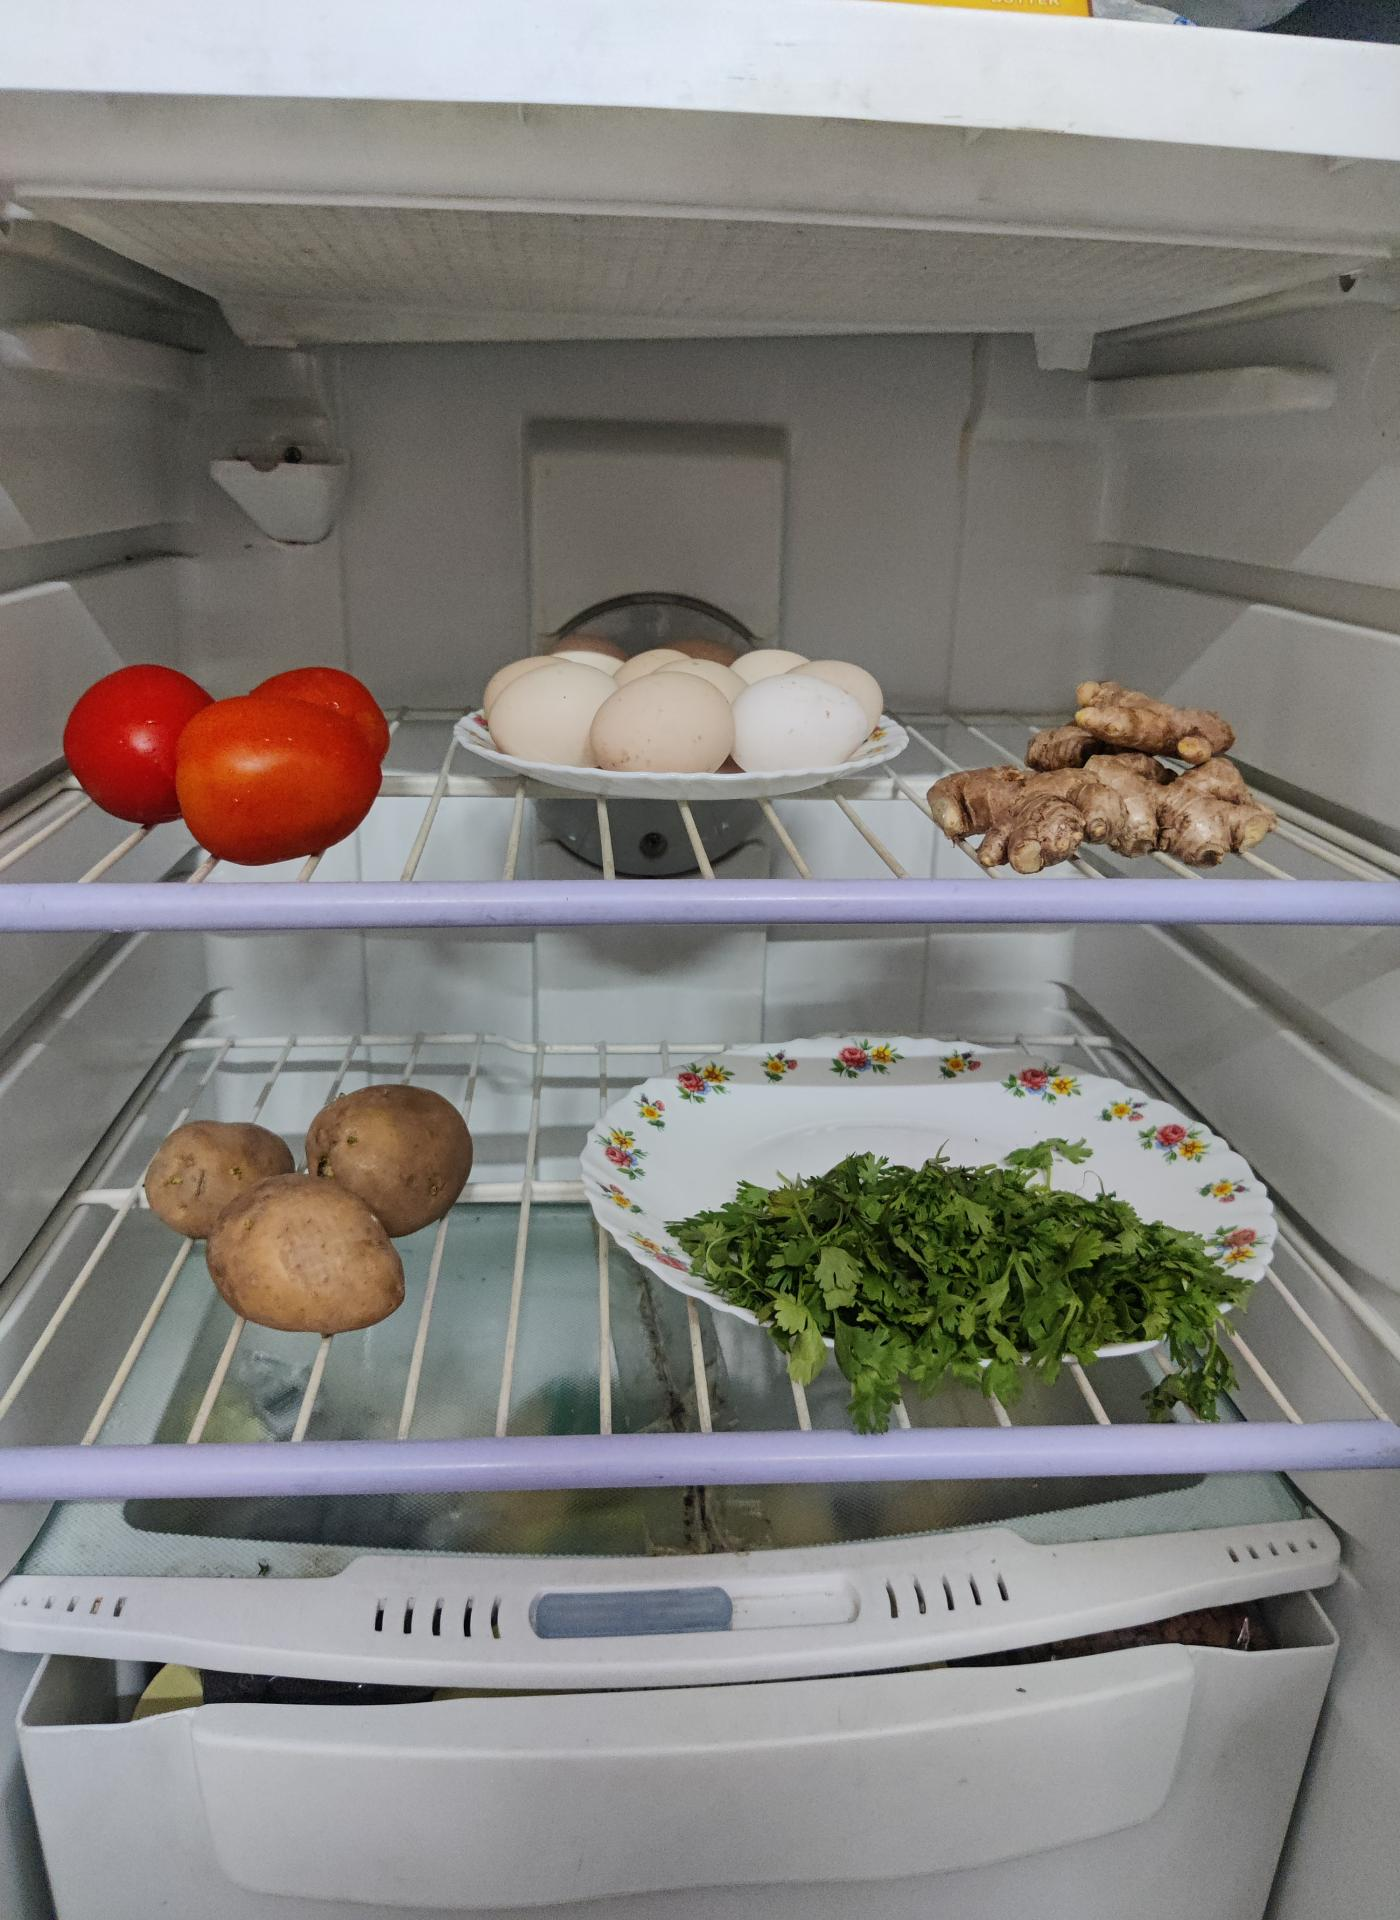coriander: (666, 1152, 1264, 1416)
egg: (477, 638, 887, 885), (476, 641, 772, 784)
ginger: (930, 686, 1269, 872)
potato: (142, 1087, 473, 1342)
tomato: (67, 668, 395, 871)
